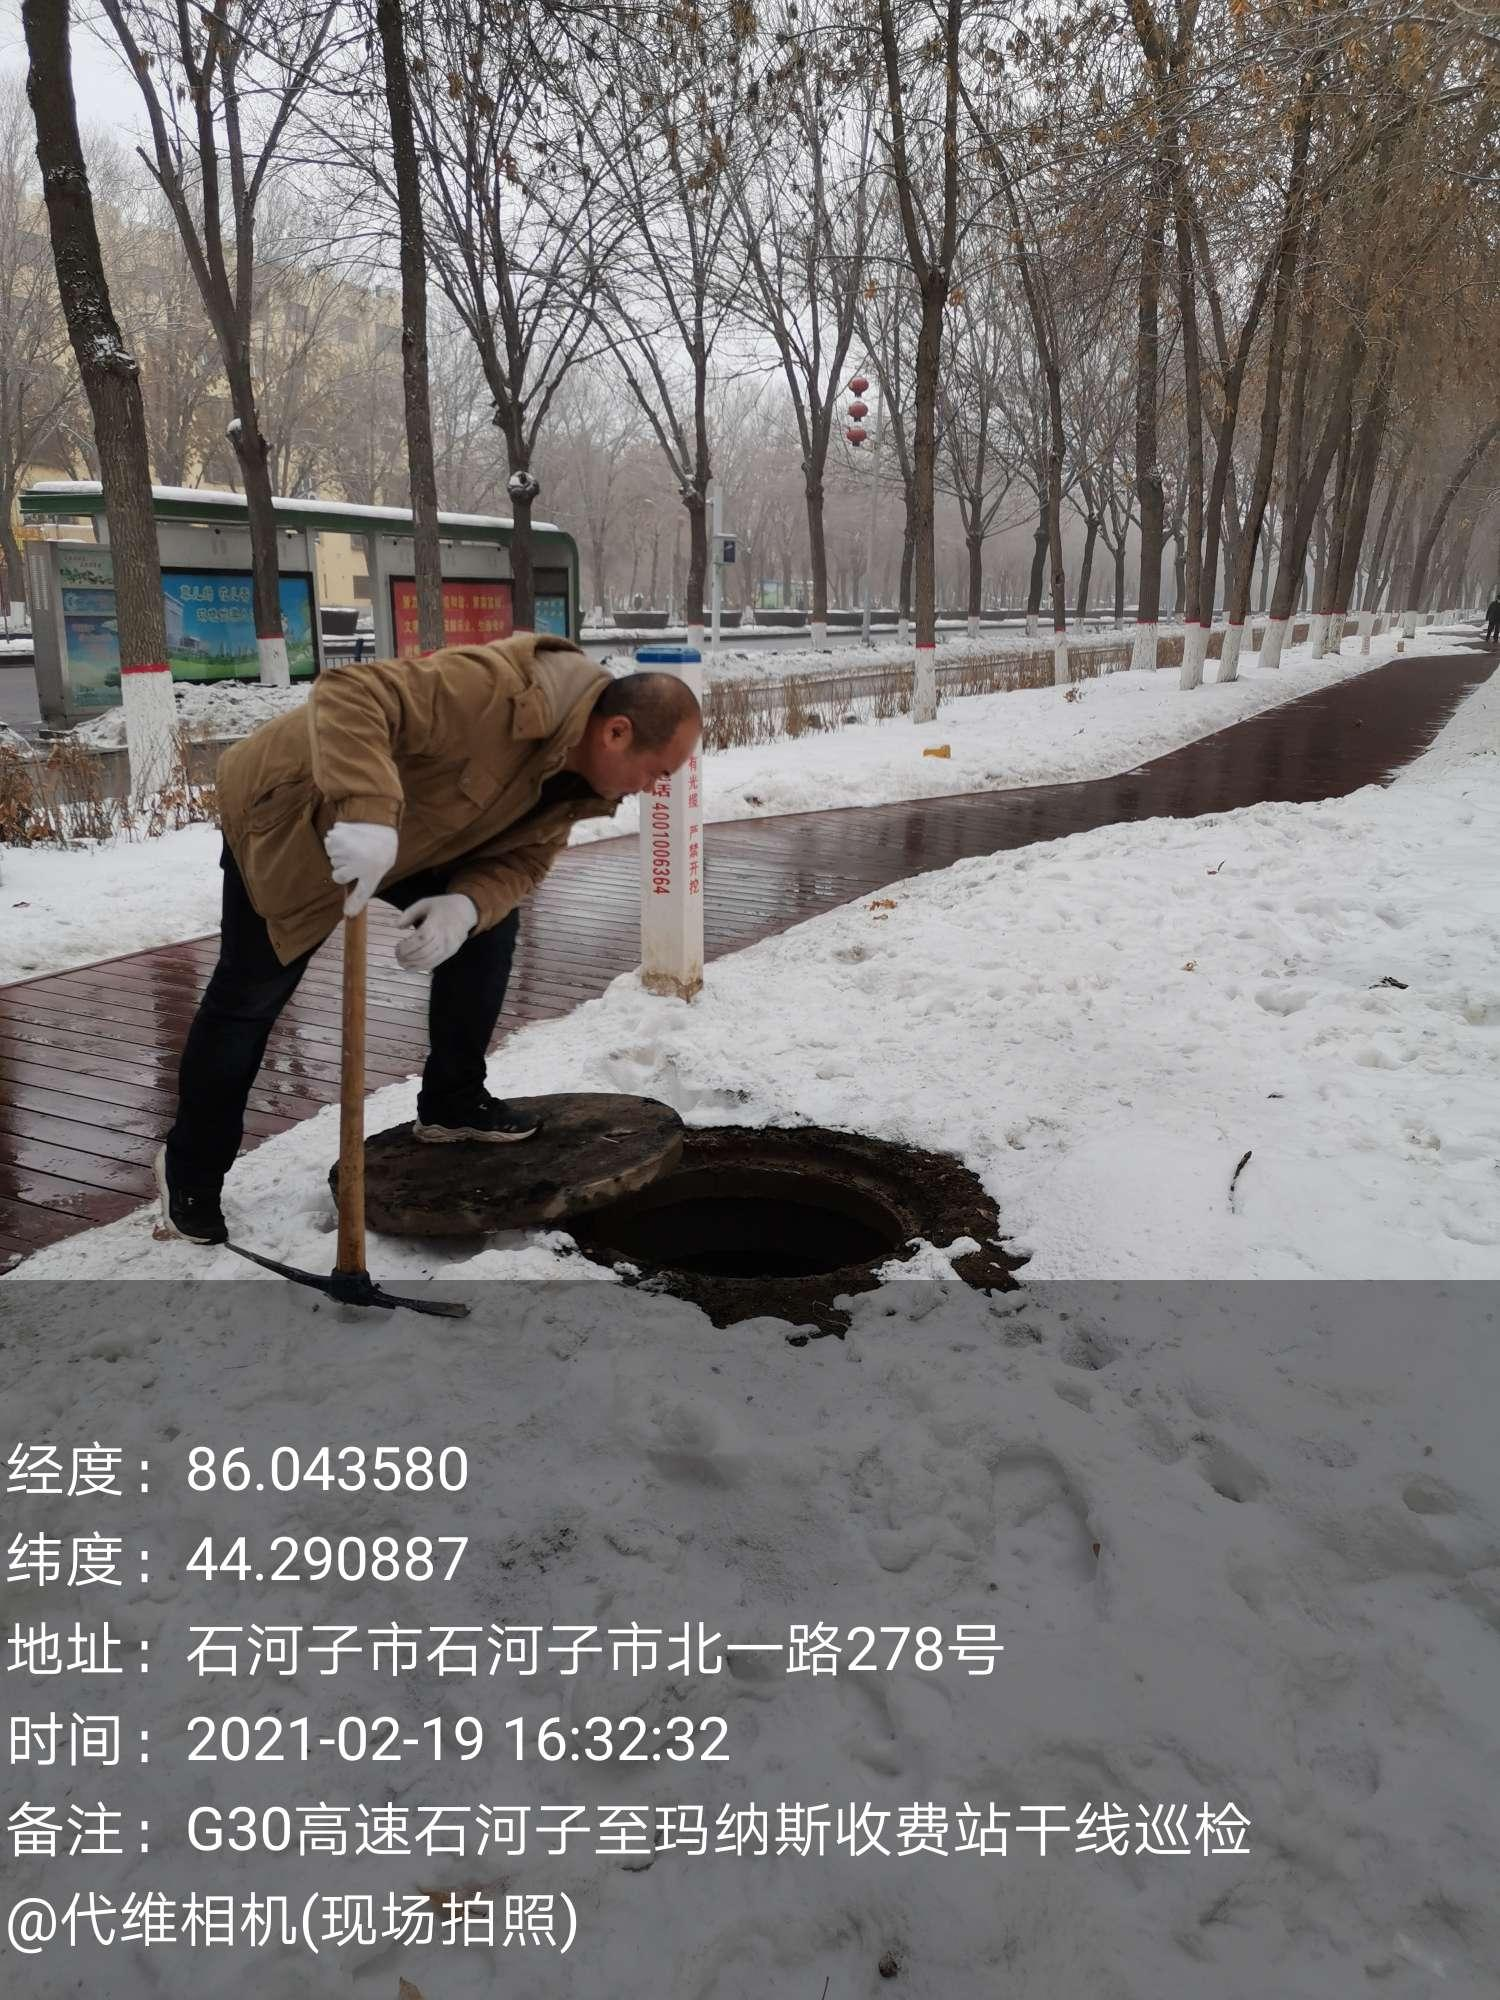wellcover: (331, 1047, 1023, 1326)
